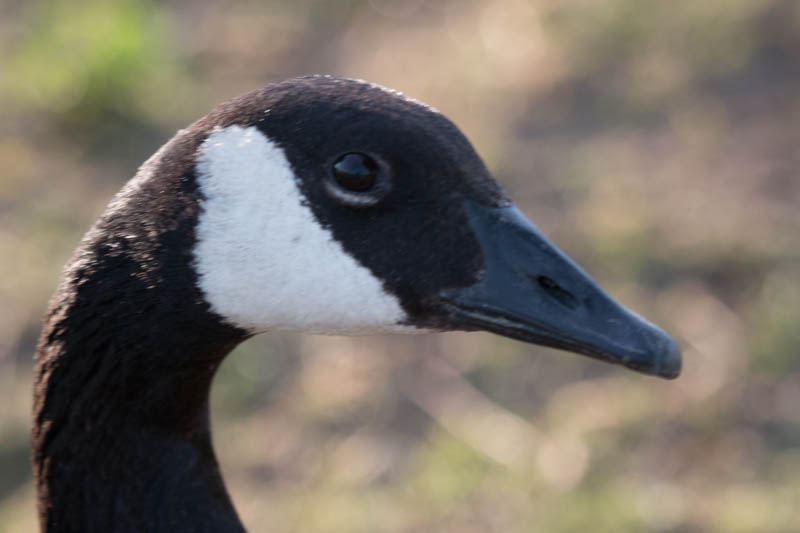goose-head: (94, 74, 683, 381)
